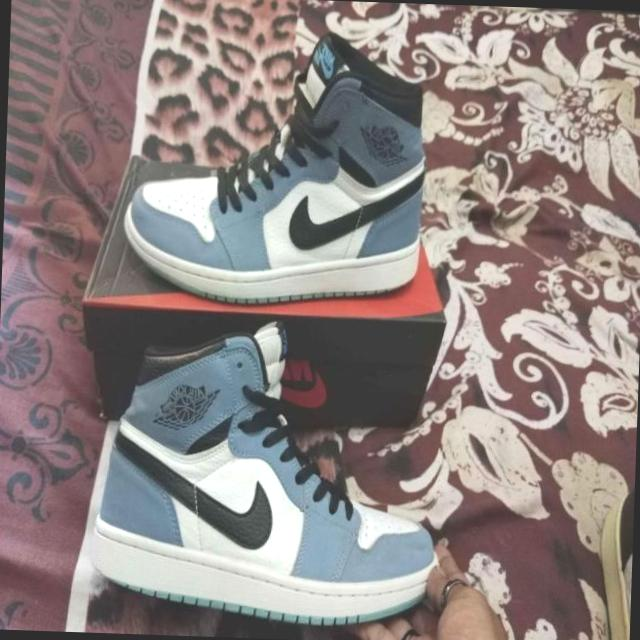nike_fake_jordan: (94, 310, 443, 632), (114, 0, 435, 313)
